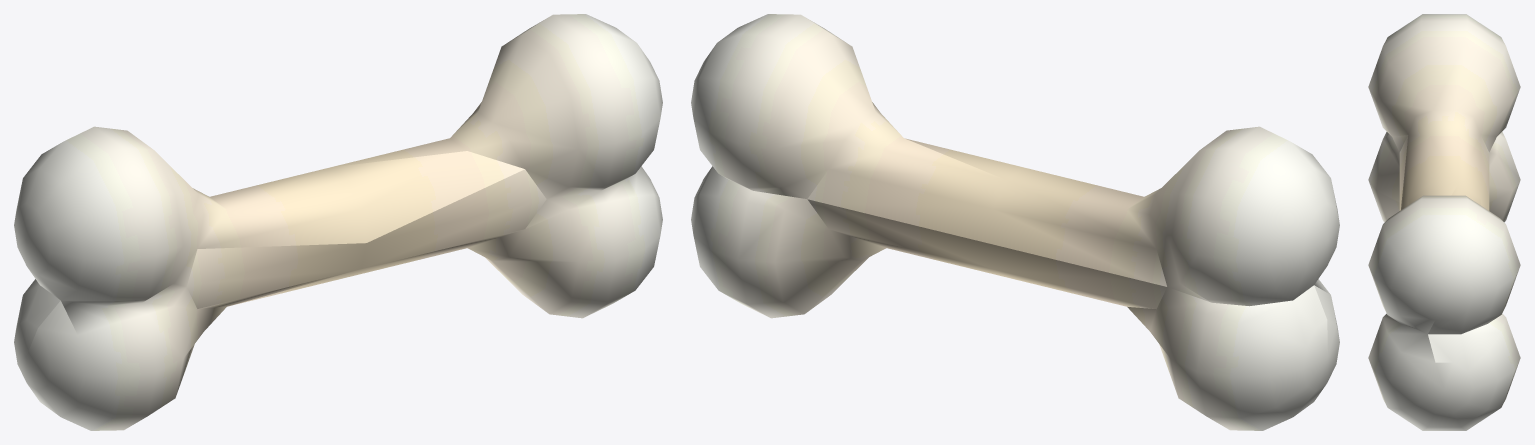
Rendered from bone.fbx.
The picture shows the model from 3 angles, left to right: view 1: azimuth 30°, elevation 25°; view 2: azimuth 150°, elevation 25°; view 3: azimuth 270°, elevation 25°; orthographic projection. The views are drawn at different scales.
Parts seen in each view (by area): view 1: vsn_mesh_0_ew125_bone01; view 2: vsn_mesh_0_ew125_bone01; view 3: vsn_mesh_0_ew125_bone01.
Part boxes in pixels (<box>): vsn_mesh_0_ew125_bone01: <box>14,14,662,430</box>; vsn_mesh_0_ew125_bone01: <box>691,14,1339,430</box>; vsn_mesh_0_ew125_bone01: <box>1368,14,1520,430</box>.
Size of the model in its own units: 617 by 266 by 164.
Materials: 1 (1 with a texture image).
